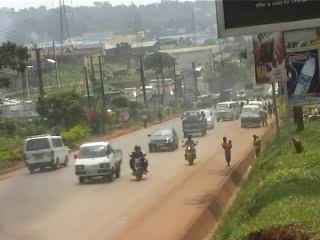Car: (146, 125, 180, 153), (196, 107, 217, 131)
Motorcycle: (126, 146, 152, 181), (180, 136, 202, 166)
